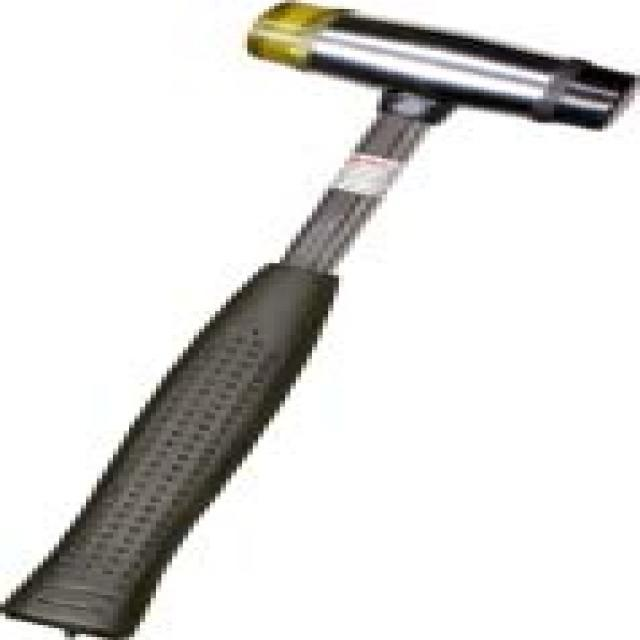hammer: (0, 1, 635, 638)
